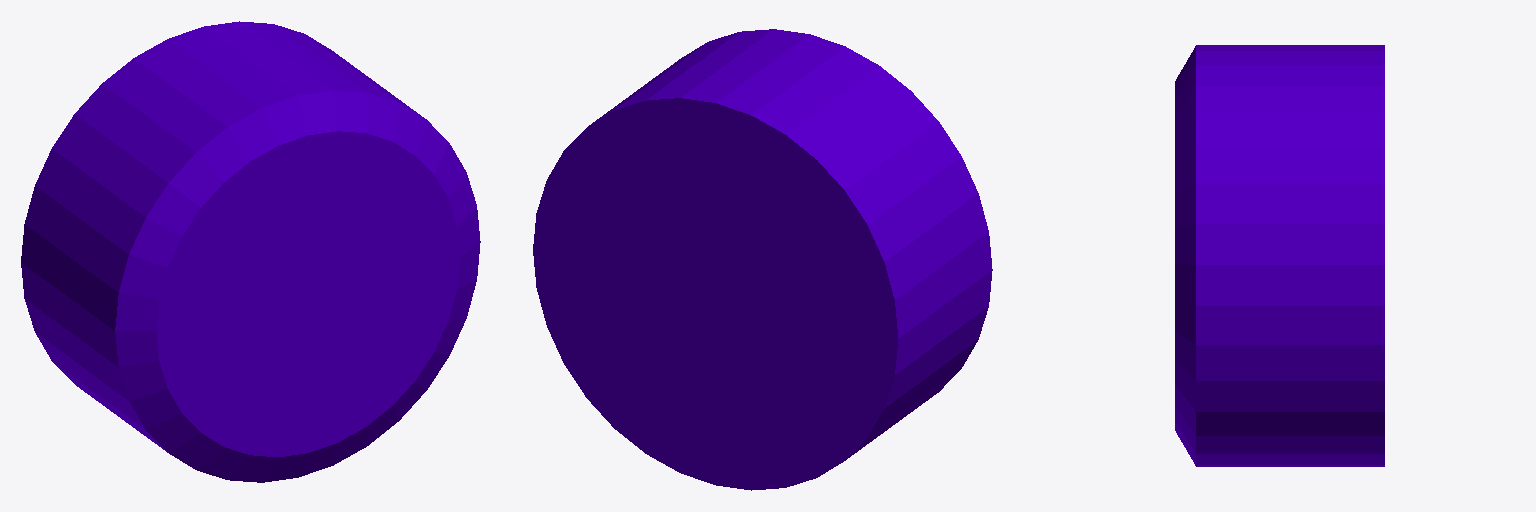
File: spawner.obj
3 renders of one model, left to right at view 1: azimuth 30°, elevation 25°; view 2: azimuth 150°, elevation 25°; view 3: azimuth 270°, elevation 25°, orthographic.
Visible parts, largest first — view 1: Cylinder; view 2: Cylinder; view 3: Cylinder.
Part boxes in pixels (x1,y1,x2,y2): Cylinder: (21,21,480,482); Cylinder: (533,29,992,490); Cylinder: (1175,45,1384,466).
Bounding box in the file's own units: 4.62 × 4.62 × 2.29.